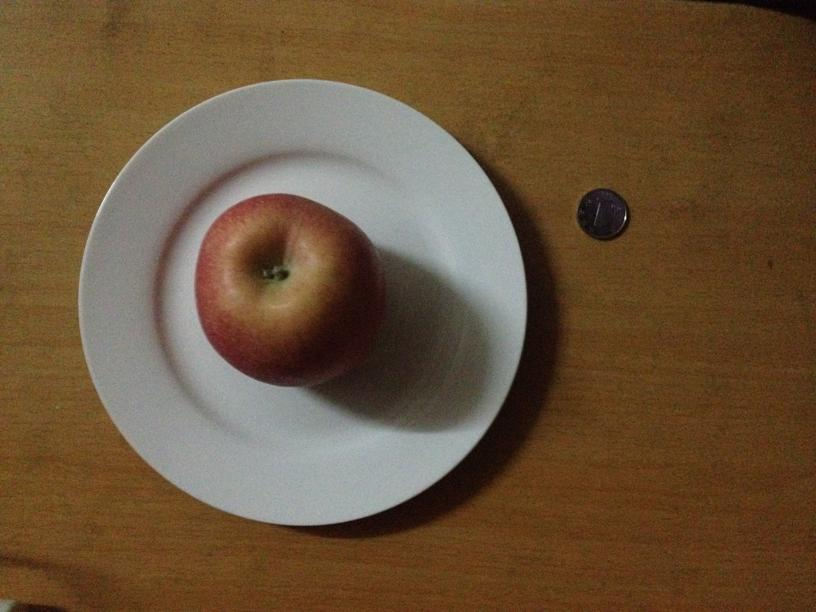apple: (193, 192, 385, 389)
coin: (576, 187, 630, 240)
